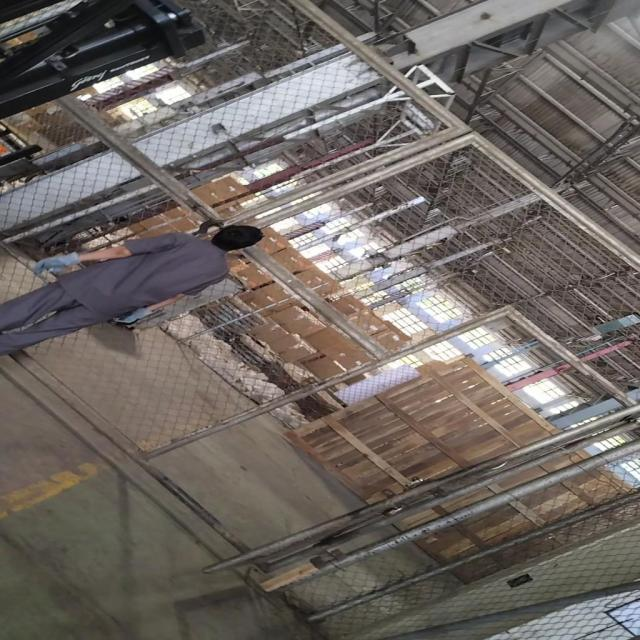Gloves-Detection: (17, 244, 88, 279)
